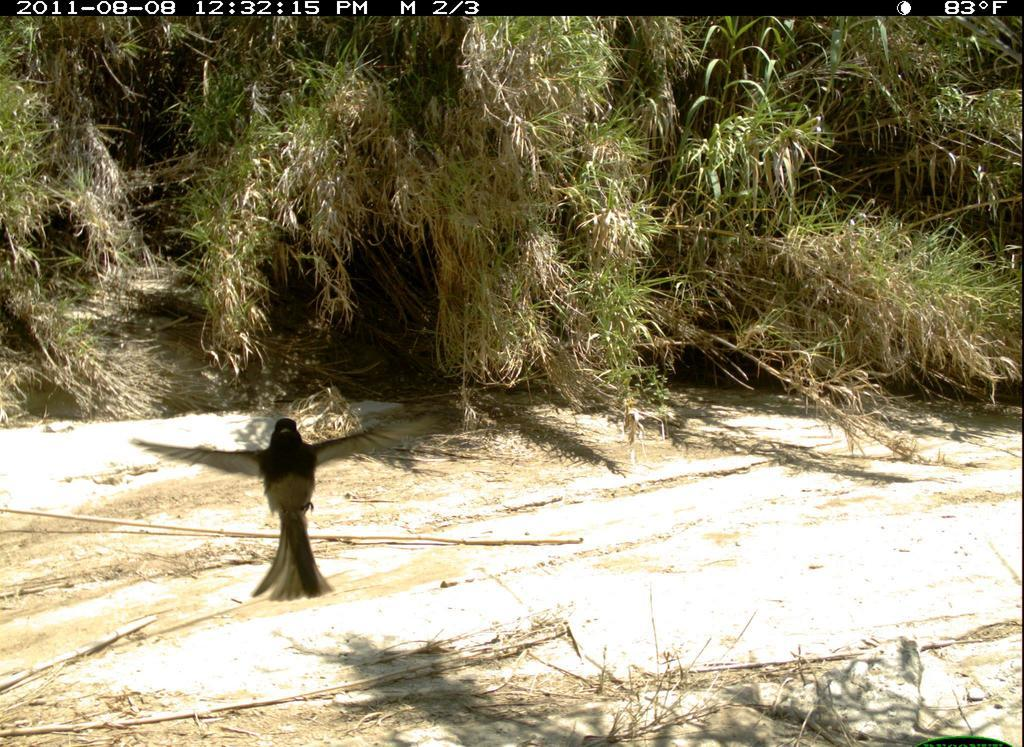bird: (118, 388, 475, 603)
